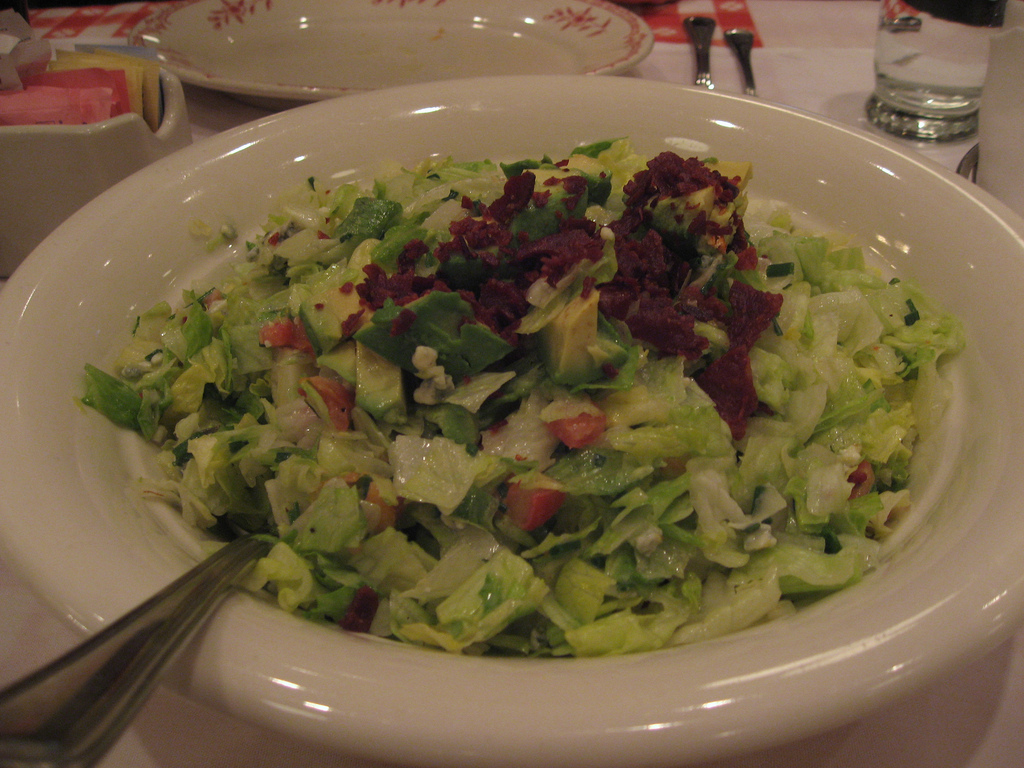chopped lettuce: (115, 138, 969, 637)
